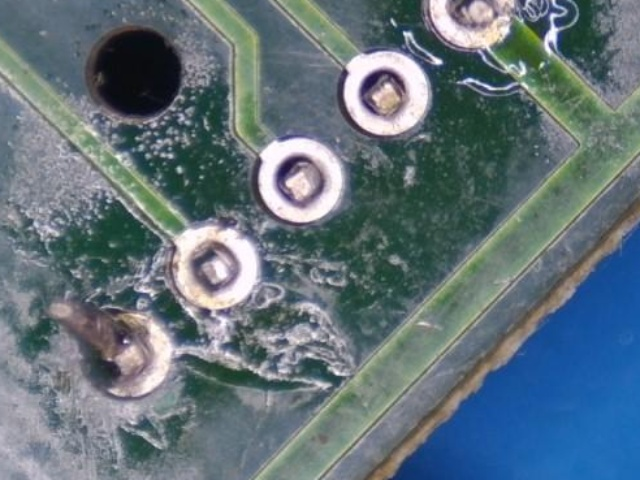pcb_defect: (172, 226, 257, 310), (87, 314, 172, 397)
